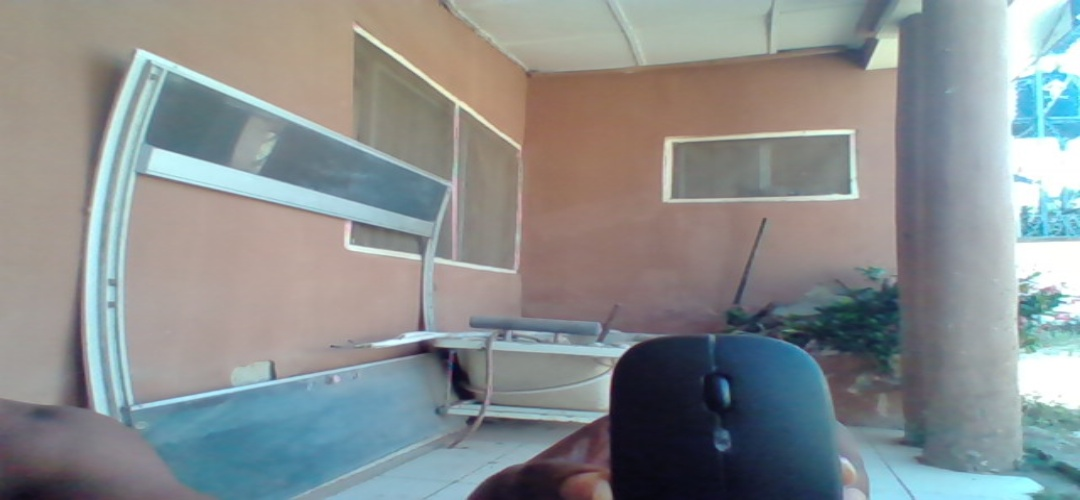wireless_mouse: (614, 333, 841, 500)
